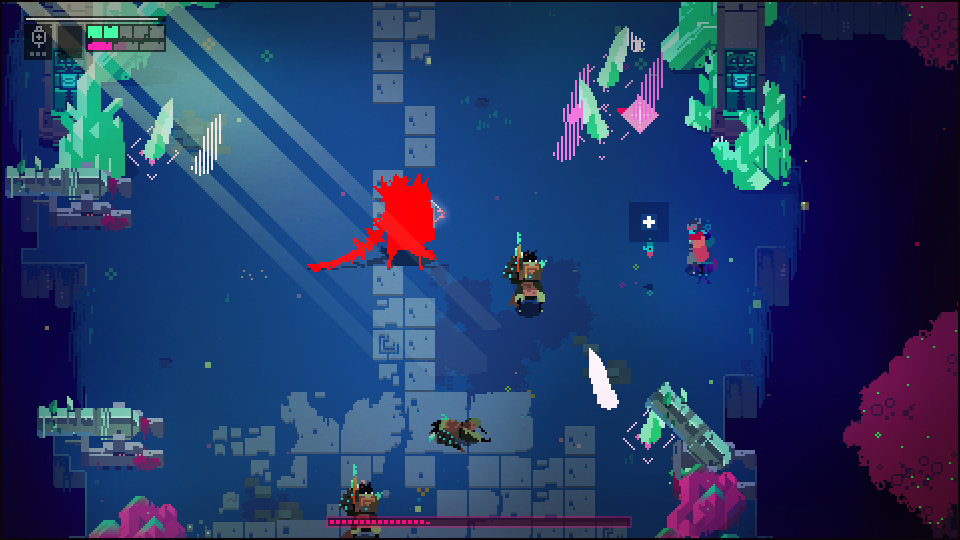hanged_crys: (583, 345, 624, 411), (625, 414, 672, 460), (576, 79, 612, 139), (598, 25, 634, 85), (632, 52, 668, 112), (550, 102, 586, 162), (141, 99, 177, 159), (188, 112, 224, 172)
hanged_man: (345, 169, 449, 276)
player: (683, 223, 714, 279)
